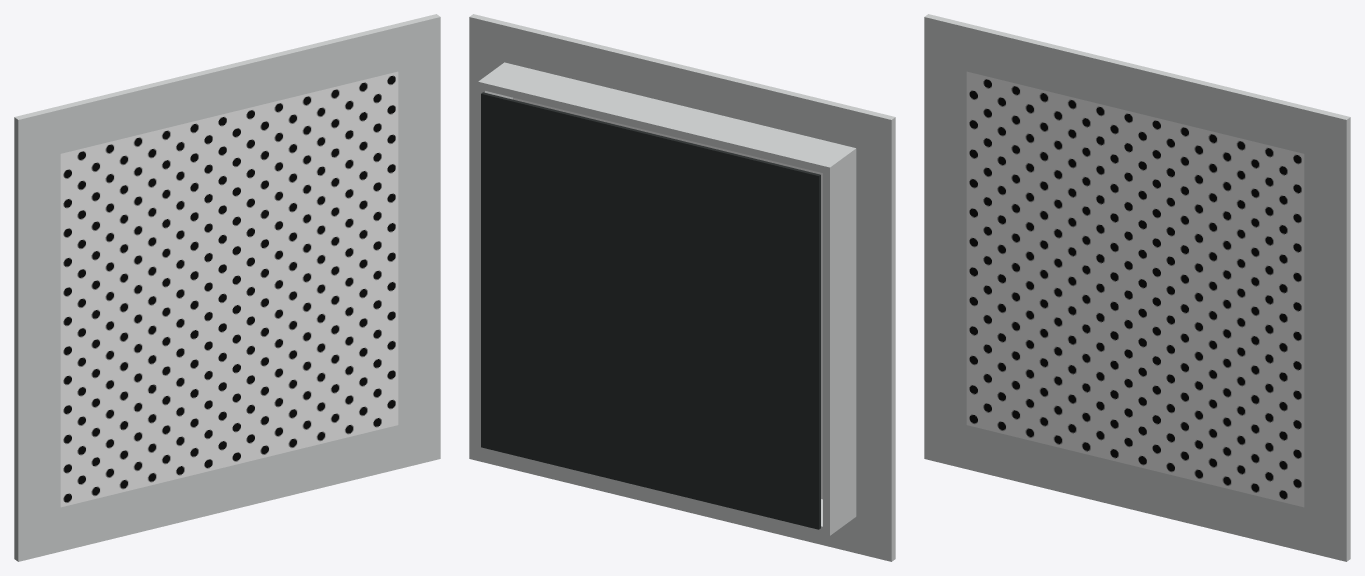
File: ecoclima-eagf-120x120.glb
The picture shows the model from 3 angles, left to right: view 1: azimuth 30°, elevation 25°; view 2: azimuth 150°, elevation 25°; view 3: azimuth 330°, elevation 25°; orthographic projection.
Visible parts, largest first — view 1: Profile_lamiera_forata.002, Profile_cornice.113, Profile_cornice.114, Profile_cornice.115, Profile_cornice.116; view 2: Interno.033, Profile_cornice.113, Profile_cornice.115, Profile_ritorno.124, Profile_ritorno.126, Profile_cornice.114, Profile_cornice.116, Profile_ritorno.125, Profile_lamiera_forata.002, Profile_ritorno.127; view 3: Profile_lamiera_forata.002, Profile_cornice.113, Profile_cornice.114, Profile_cornice.116, Profile_cornice.115.
Part boxes in pixels (x1,y1,x2,y2): Profile_lamiera_forata.002: [60, 71, 398, 507]; Profile_cornice.113: [14, 14, 440, 163]; Profile_cornice.114: [14, 415, 440, 561]; Profile_cornice.115: [14, 154, 60, 517]; Profile_cornice.116: [398, 61, 440, 424]; Interno.033: [481, 92, 820, 529]; Profile_cornice.113: [469, 14, 895, 163]; Profile_cornice.115: [856, 155, 895, 517]; Profile_ritorno.124: [478, 62, 856, 174]; Profile_ritorno.126: [823, 156, 856, 528]; Profile_cornice.114: [469, 415, 895, 561]; Profile_cornice.116: [469, 61, 512, 416]; Profile_ritorno.125: [478, 442, 856, 535]; Profile_lamiera_forata.002: [513, 97, 822, 499]; Profile_ritorno.127: [478, 89, 511, 443]; Profile_lamiera_forata.002: [966, 71, 1304, 507]; Profile_cornice.113: [924, 14, 1350, 163]; Profile_cornice.114: [924, 415, 1350, 561]; Profile_cornice.116: [1304, 154, 1350, 517]; Profile_cornice.115: [924, 61, 966, 424].
Size of the model in its own units: 0.12 by 0.12 by 0.017.
3 materials, 1 textured.
